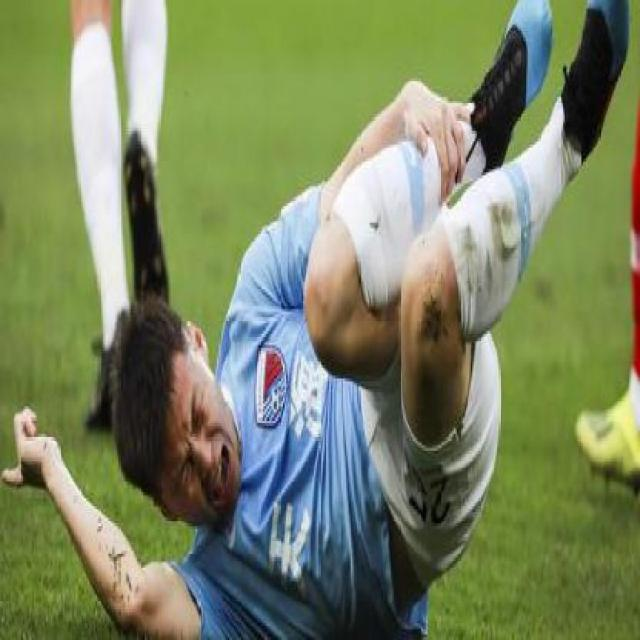fall: (50, 0, 589, 635)
